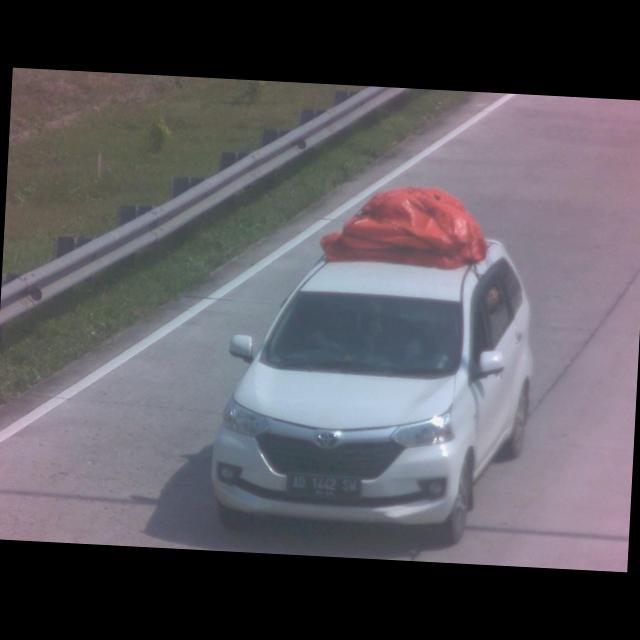plate: (286, 472, 362, 503)
